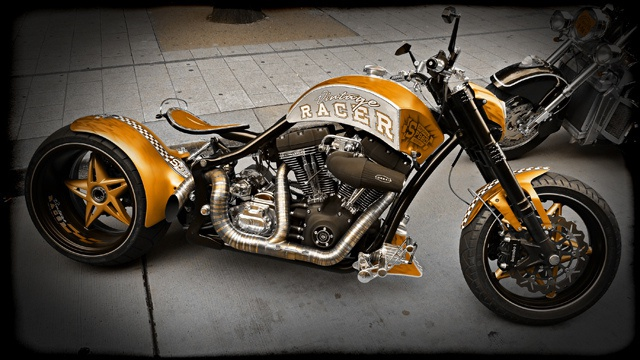non-vehicle: (25, 2, 621, 324), (489, 1, 639, 157)
